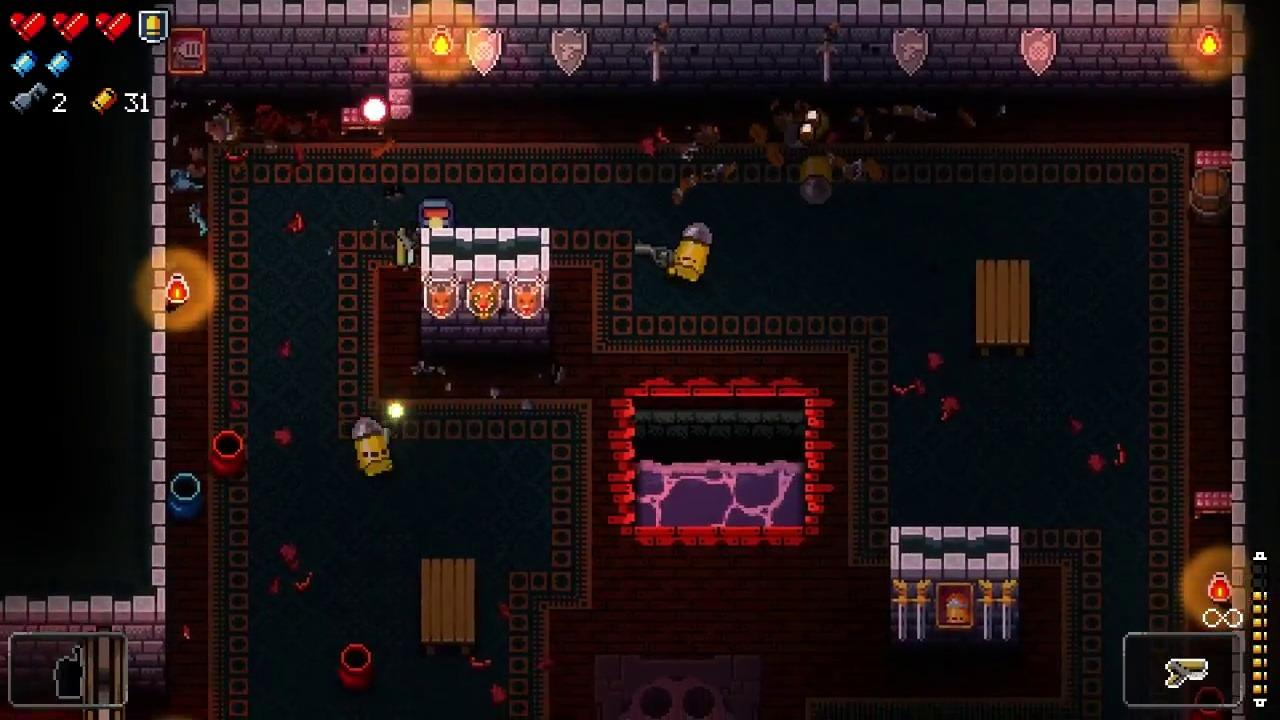bullet: (362, 94, 387, 123)
bullet_kin: (670, 221, 712, 285), (353, 417, 395, 478)
dead_bullet_kin: (799, 158, 833, 206)
locked_door: (83, 626, 131, 720)
player: (417, 197, 455, 227)
table: (975, 261, 1032, 358), (421, 557, 474, 655)
water_pit: (612, 375, 836, 547)
